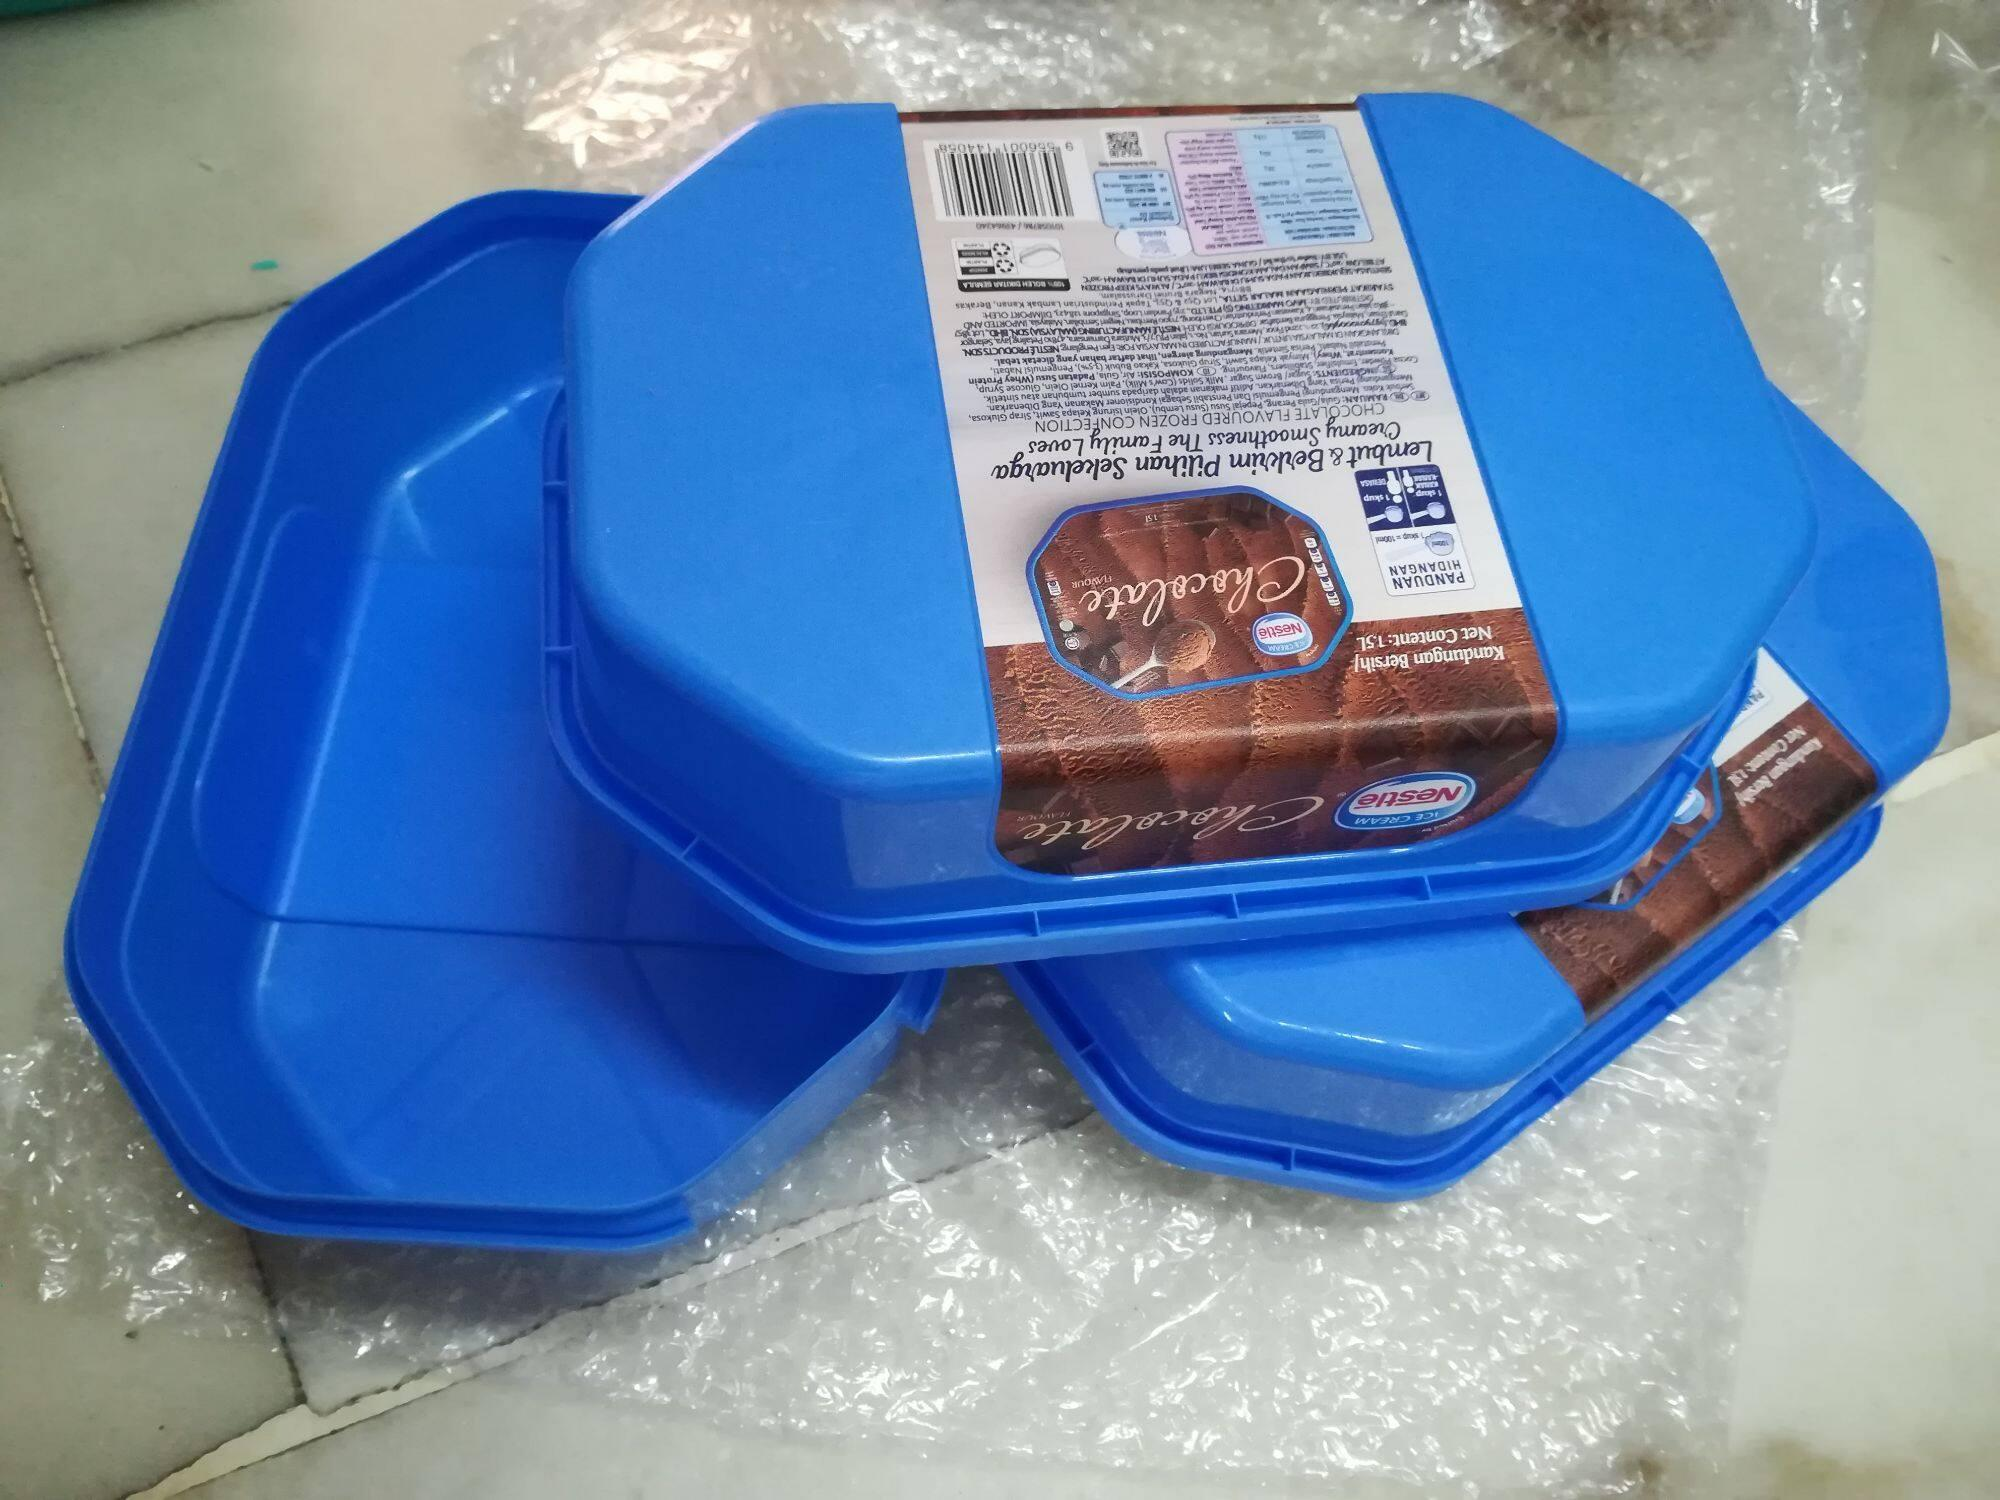plastic: (68, 90, 1954, 1268)
